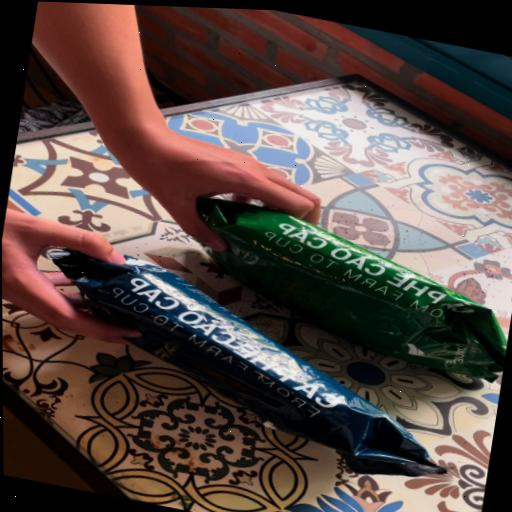cafe_hat: (50, 249, 444, 476)
cafe_xay: (197, 198, 507, 381)
